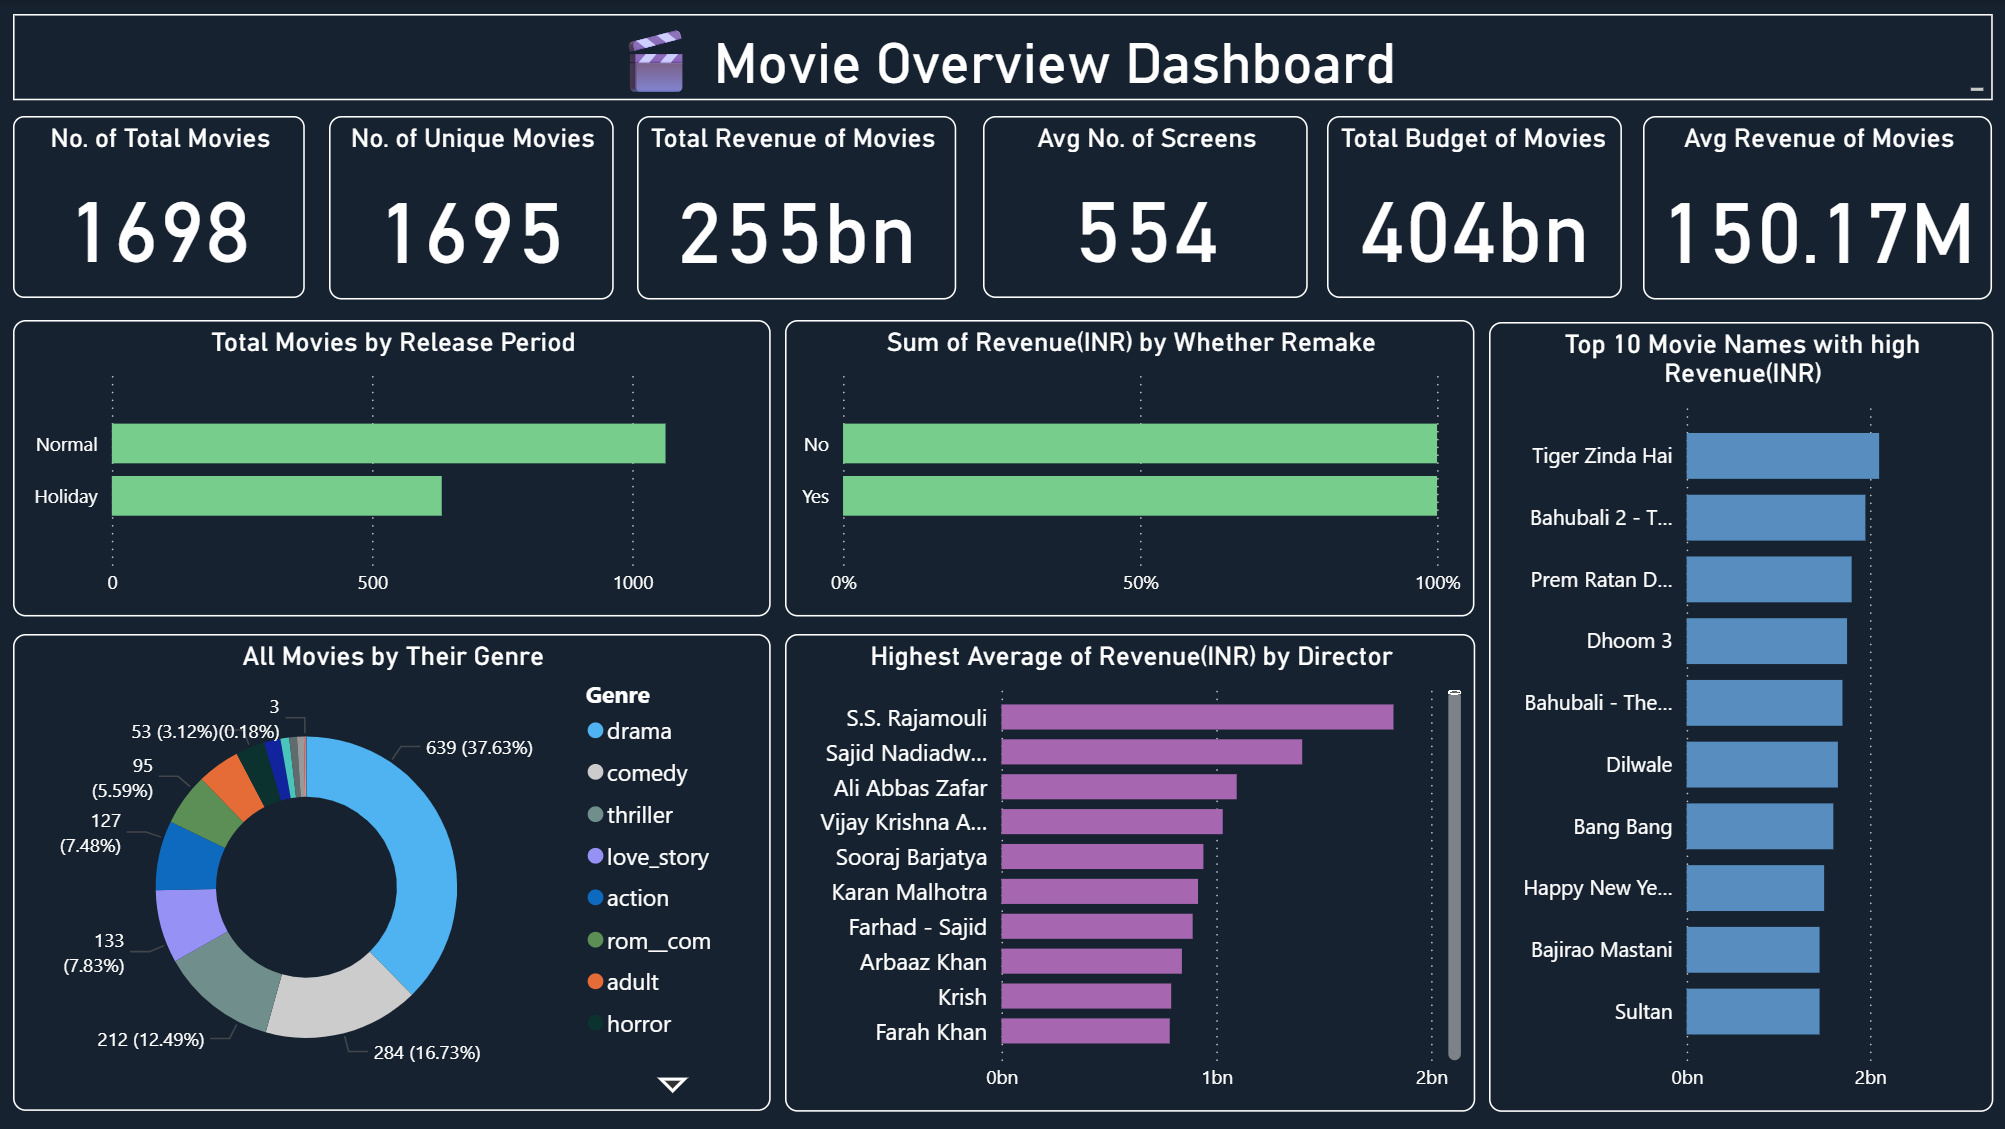

This screenshot's page, from the dashboard's own definition file:
{"tool":"powerbi","page":{"name":"Movie Overview Dashboard","canvas":[1280,720],"ordinal":0},"visuals":[{"type":"card","title":"No. of Total Movies ","fields":{"Values":["Data for repository.Total_Movies"]},"box":[10,74.6,185.9,115.8],"z":0},{"type":"card","title":"No. of Unique Movies","fields":{"Values":["Data for repository.Unique_Movies"]},"box":[211.5,73.5,181.4,116.9],"z":1000},{"type":"card","title":"Total Revenue of Movies","fields":{"Values":["Data for repository.Total_Revenue"]},"box":[408.5,73.5,203.7,116.9],"z":2000},{"type":"card","title":"Avg No. of Screens","fields":{"Values":["Data for repository.Number_of_Screens"]},"box":[628.9,73.5,207,115.8],"z":3000},{"type":"card","title":"Total Budget of Movies","fields":{"Values":["Data for repository.Total_Budget"]},"box":[848.1,74.6,188.1,115.8],"z":4000},{"type":"card","title":"Avg Revenue of Movies","fields":{"Values":["Data for repository.Avg_Revenue"]},"box":[1049.6,73.5,222.6,116.9],"z":5000},{"type":"barChart","title":"Total Movies by Release Period","fields":{"Category":["Data for repository.Release_Period"],"Y":["Data for repository.Total_Movies"]},"box":[10,203.7,483.1,189.2],"z":6000},{"type":"donutChart","title":"All Movies by Their Genre","fields":{"Category":["Data for repository.Genre"],"Y":["Data for repository.Movie_Name"]},"box":[10,404,483.1,303.9],"z":7000},{"type":"hundredPercentStackedBarChart","title":"Sum of Revenue(INR) by Whether Remake","fields":{"Category":["Data for repository.Whether_Remake"],"Y":["Data for repository.Revenue(INR)"]},"box":[502,203.7,439.7,189.2],"z":8000},{"type":"barChart","title":"Top 10 Movie Names with high Revenue(INR)","fields":{"Category":["Data for repository.Movie_Name"],"Y":["Data for repository.Revenue(INR)"]},"box":[951.1,205.3,321.3,503.6],"z":9000},{"type":"barChart","title":"Highest Average of Revenue(INR) by Director","fields":{"Category":["Data for repository.Director"],"Y":["Data for repository.Revenue(INR)"]},"box":[502.3,404.1,439.8,304.7],"z":10000},{"type":"textbox","title":"🎬 Movie Overview Dashboard","box":[10.2,8.9,1262.2,54.8],"z":11000}]}

Visuals, with their boxes in screenshot pixels (x1, y1, x2, y2), scaled from the page's 1280x720 canvas onto the 2005x1129 screenshot:
"No. of Total Movies " card: region(16, 117, 307, 299)
"No. of Unique Movies" card: region(331, 115, 615, 299)
"Total Revenue of Movies" card: region(640, 115, 959, 299)
"Avg No. of Screens" card: region(985, 115, 1309, 297)
"Total Budget of Movies" card: region(1328, 117, 1623, 299)
"Avg Revenue of Movies" card: region(1644, 115, 1993, 299)
"Total Movies by Release Period" barChart: region(16, 319, 772, 616)
"All Movies by Their Genre" donutChart: region(16, 633, 772, 1110)
"Sum of Revenue(INR) by Whether Remake" hundredPercentStackedBarChart: region(786, 319, 1475, 616)
"Top 10 Movie Names with high Revenue(INR)" barChart: region(1490, 322, 1993, 1112)
"Highest Average of Revenue(INR) by Director" barChart: region(787, 634, 1476, 1111)
"🎬 Movie Overview Dashboard" textbox: region(16, 14, 1993, 100)
